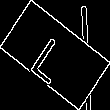L_NE: (30, 26, 80, 84)
